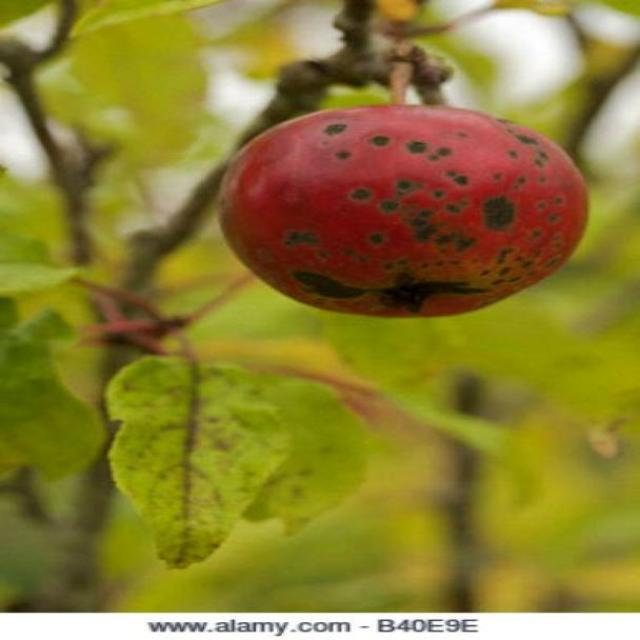SCAB: (210, 95, 606, 347)
